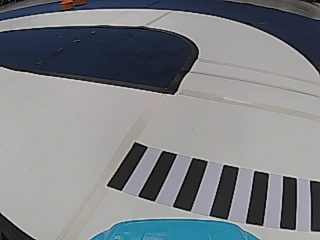CrossWalk: (110, 145, 317, 224)
